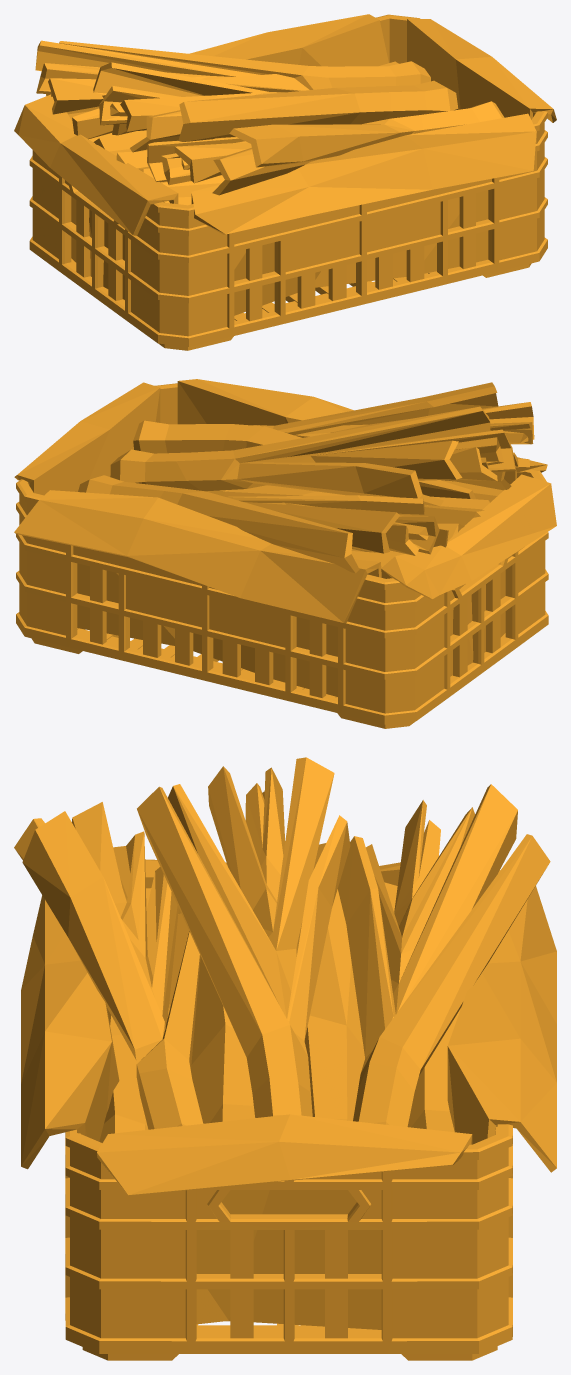
Rendered from SM_Crate_Plastic_Small_Paper_Leek.fbx.
3 views of the same model, one above another, from view 1: azimuth 30°, elevation 25°; view 2: azimuth 150°, elevation 25°; view 3: azimuth 270°, elevation 25° (orthographic). The views are drawn at different scales.
Parts seen in each view (by area): view 1: crate-plastic-small-paper-leek; view 2: crate-plastic-small-paper-leek; view 3: crate-plastic-small-paper-leek.
Part boxes in pixels (box(x1,y1,x2,y2)): crate-plastic-small-paper-leek: box(14, 14, 556, 350); crate-plastic-small-paper-leek: box(14, 379, 556, 728); crate-plastic-small-paper-leek: box(14, 757, 556, 1360).
Bounding box in the file's own units: 0.663 × 0.3475 × 0.495.
